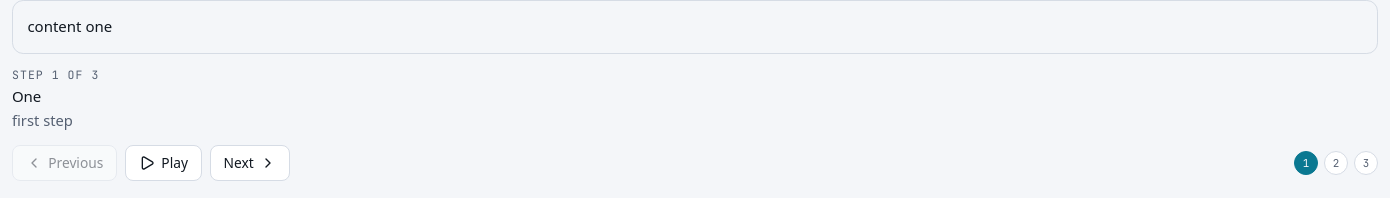
Test case: Stepper › plays, advances on the interval and stops on the last step
Click the button "Play": coordinates (163, 163) 125,145 -> 202,181
Wait 2000 ms
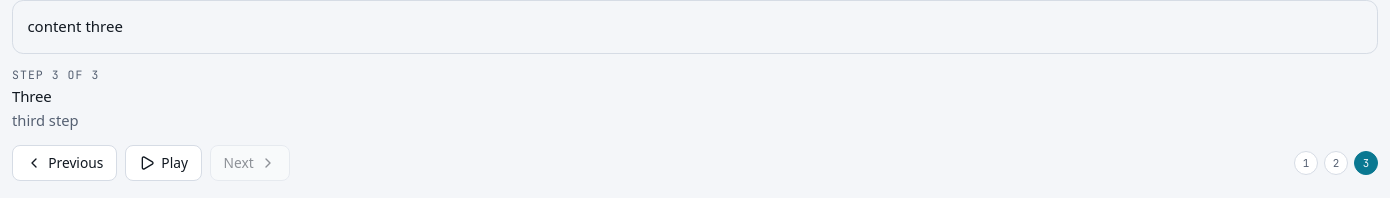
Now the text "Step 3 of 3" is shown, box 12,67 -> 99,82
